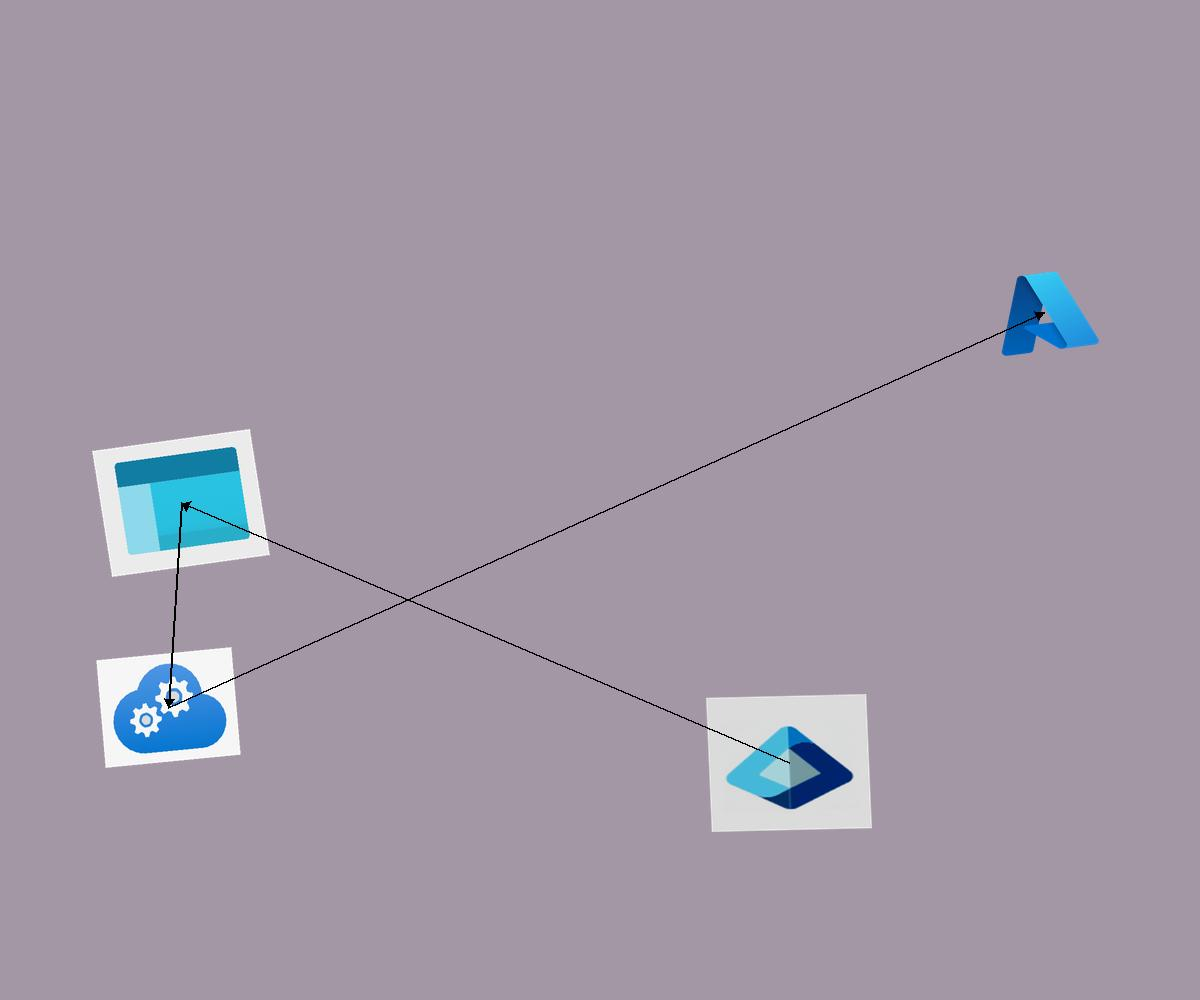Azure_cloud_services: (96, 647, 241, 768)
Azure_management-portal: (92, 429, 270, 577)
Azure_microsoft_entra: (706, 694, 872, 832)
Azure_services: (983, 261, 1105, 363)
